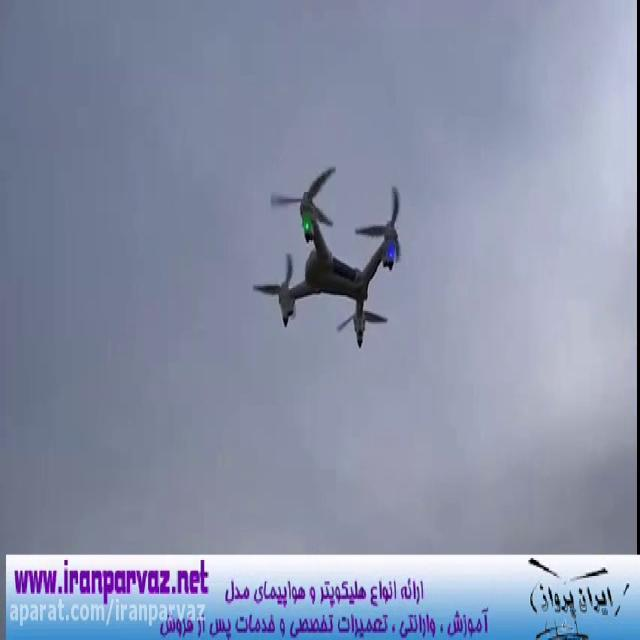drone: (246, 156, 406, 354)
